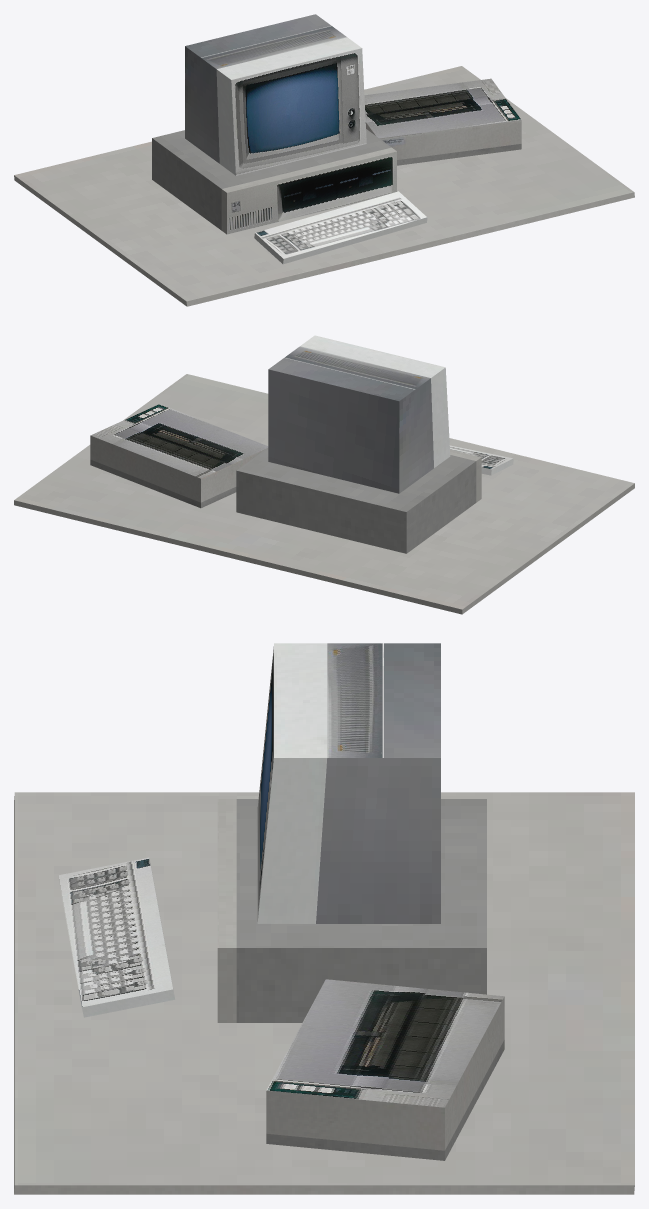
File: ibm-pc.glb
3 views of the same model, one above another, from view 1: azimuth 30°, elevation 25°; view 2: azimuth 150°, elevation 25°; view 3: azimuth 270°, elevation 25° (orthographic). The views are drawn at different scales.
Visible parts, largest first — view 1: Desk, Monitor, Computer, Printer, Keyboard; view 2: Desk, Monitor, Computer, Printer, Keyboard; view 3: Desk, Monitor, Printer, Computer, Keyboard.
Boxes of the visible parts, left/top/right/bottom form: Desk: left=14, top=66, right=634, bottom=306; Monitor: left=185, top=14, right=366, bottom=175; Computer: left=152, top=129, right=396, bottom=234; Printer: left=364, top=78, right=521, bottom=165; Keyboard: left=254, top=191, right=427, bottom=264; Desk: left=14, top=374, right=634, bottom=614; Monitor: left=268, top=335, right=450, bottom=493; Computer: left=236, top=447, right=481, bottom=553; Printer: left=90, top=404, right=268, bottom=508; Keyboard: left=449, top=445, right=513, bottom=475; Desk: left=14, top=792, right=634, bottom=1194; Monitor: left=257, top=643, right=440, bottom=923; Printer: left=266, top=979, right=504, bottom=1160; Computer: left=217, top=799, right=486, bottom=1022; Keyboard: left=58, top=857, right=175, bottom=1017.
Bounding box in the file's own units: 10.15 × 3.14 × 6.78.
1 material, 1 textured.
